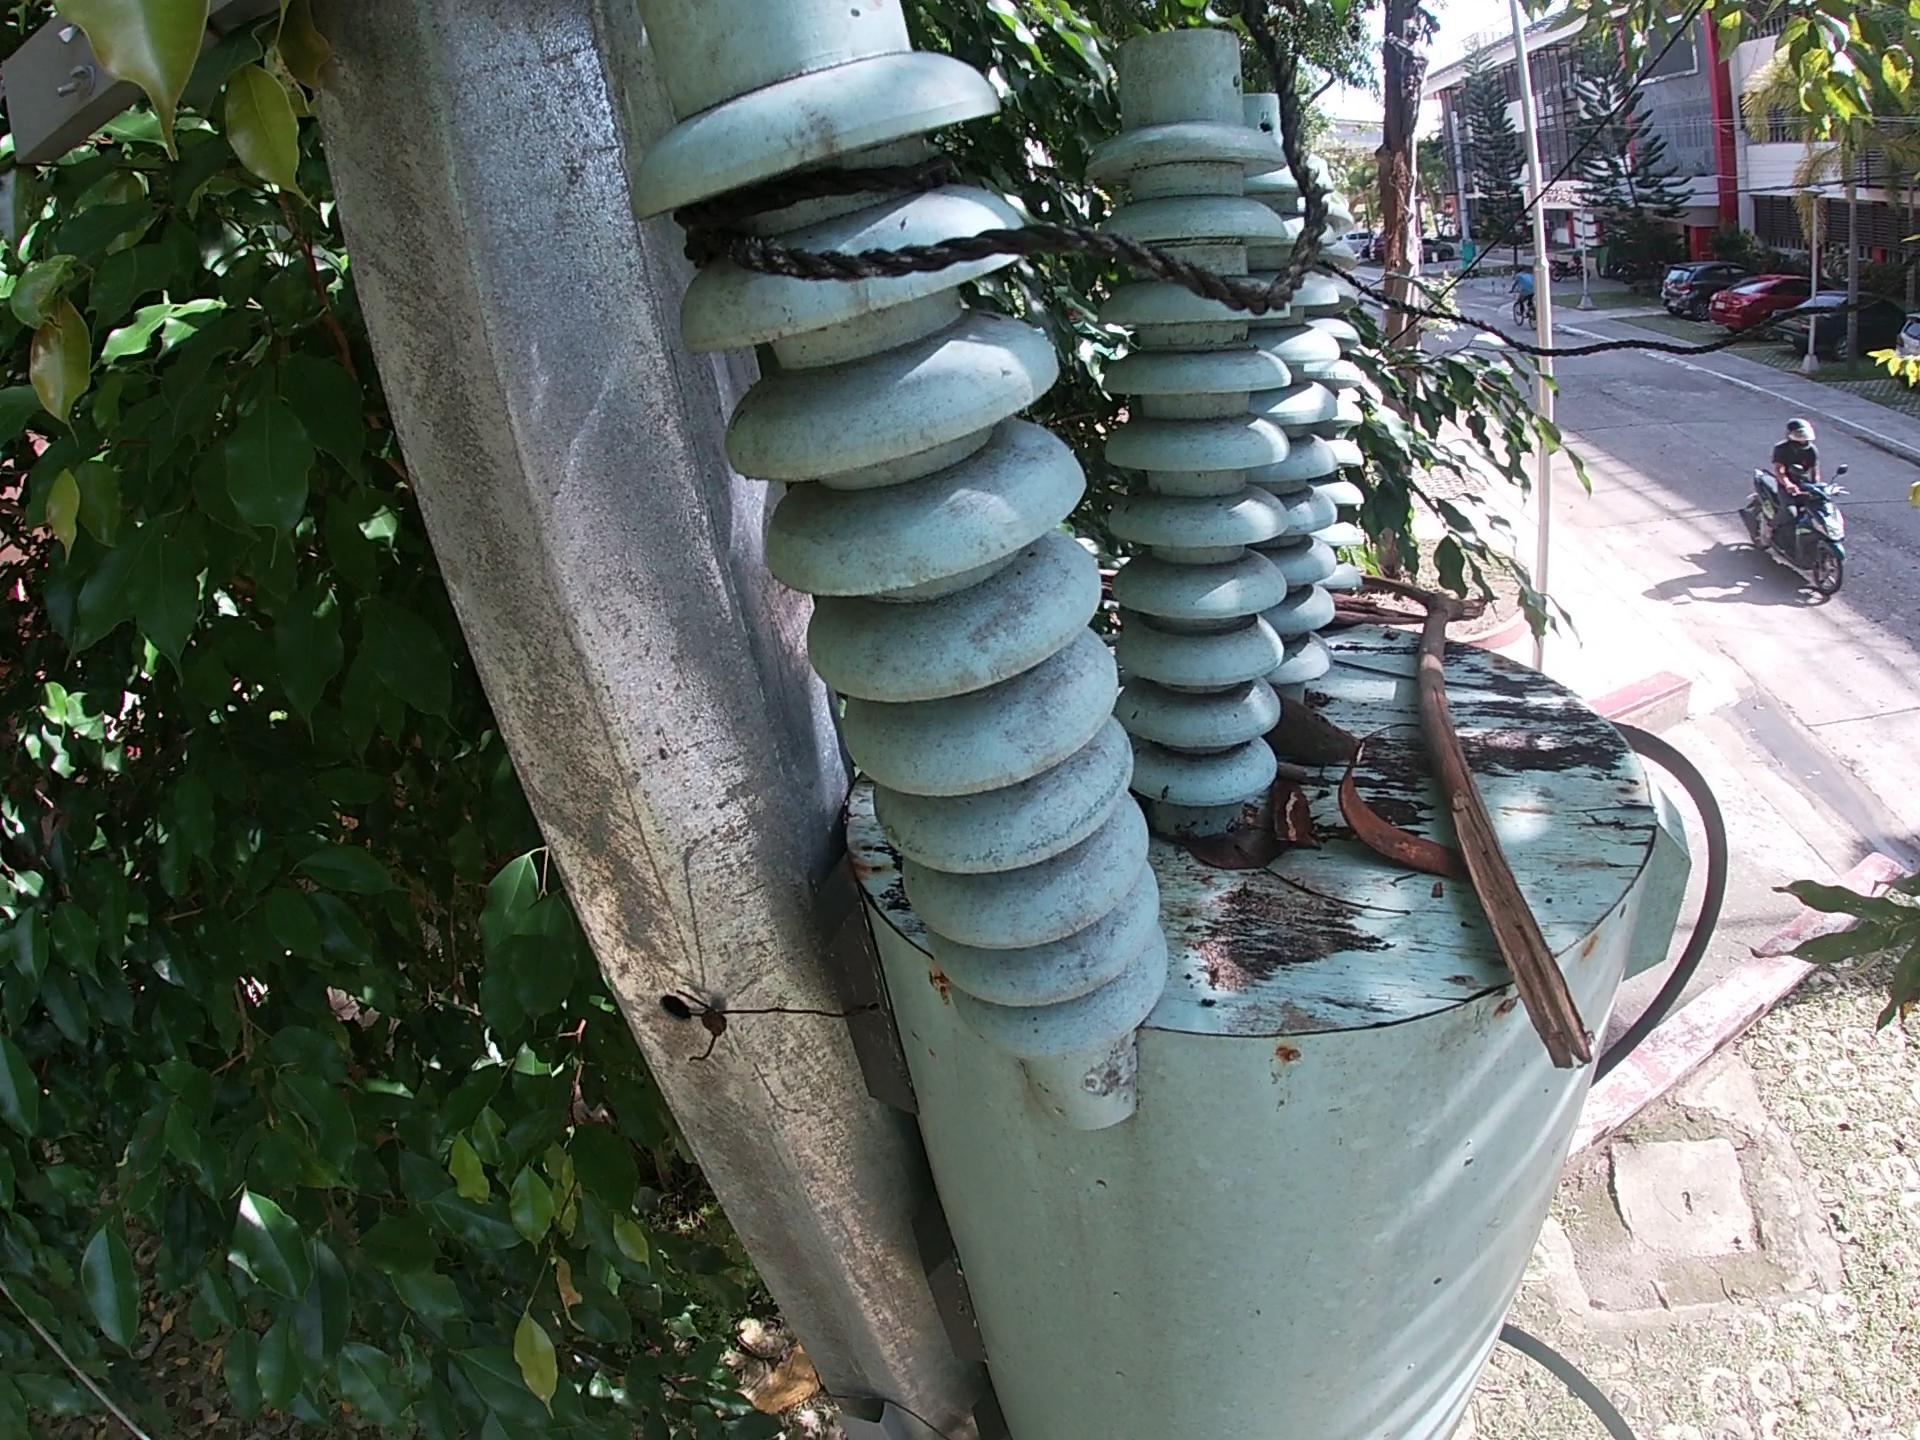leaf: (1169, 835, 1281, 877)
mahogany fruit: (1336, 729, 1462, 895), (1268, 691, 1358, 771)
tree branch: (1358, 569, 1621, 1088), (1333, 659, 1521, 700), (1267, 871, 1404, 923), (1277, 774, 1320, 871), (1330, 593, 1411, 635), (1084, 558, 1116, 604)
